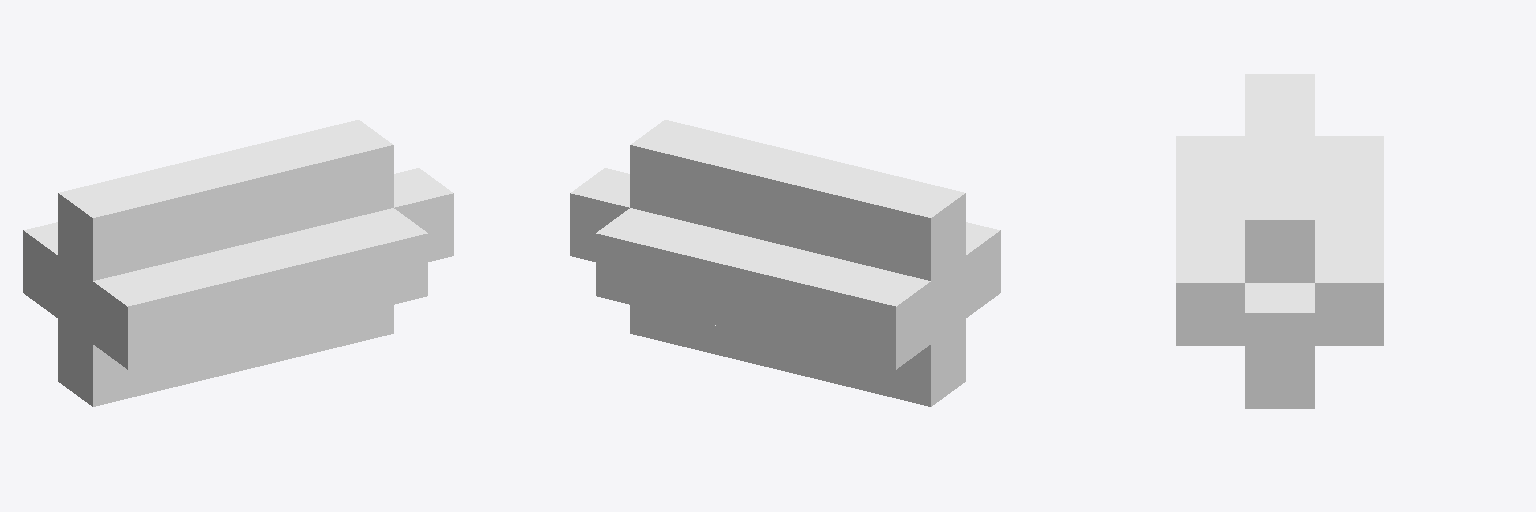
Rendered from tank_bullet.obj.
3 renders of one model, left to right at view 1: azimuth 30°, elevation 25°; view 2: azimuth 150°, elevation 25°; view 3: azimuth 270°, elevation 25°, orthographic.
Size of the model in its own units: 6 by 3 by 3.